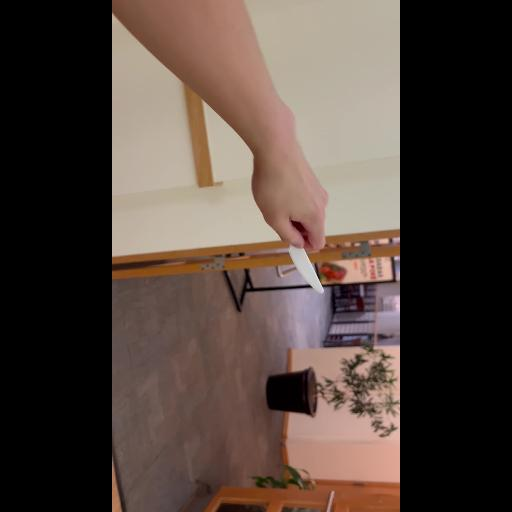utensil: (246, 186, 350, 312)
